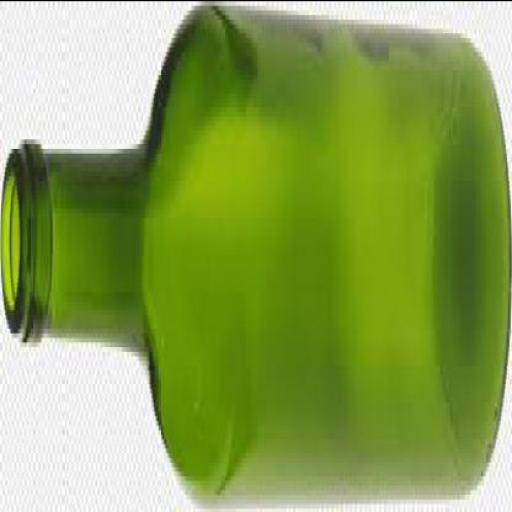glass: (0, 4, 511, 510)
